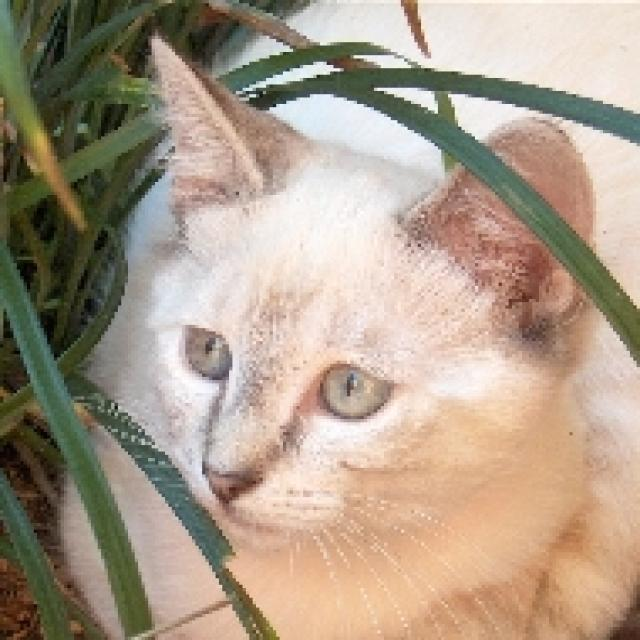Cats: (51, 29, 636, 637)
